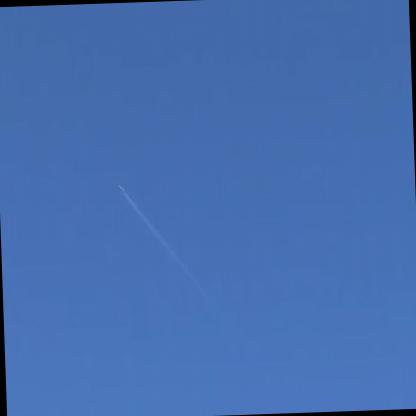plane: (114, 180, 124, 194)
